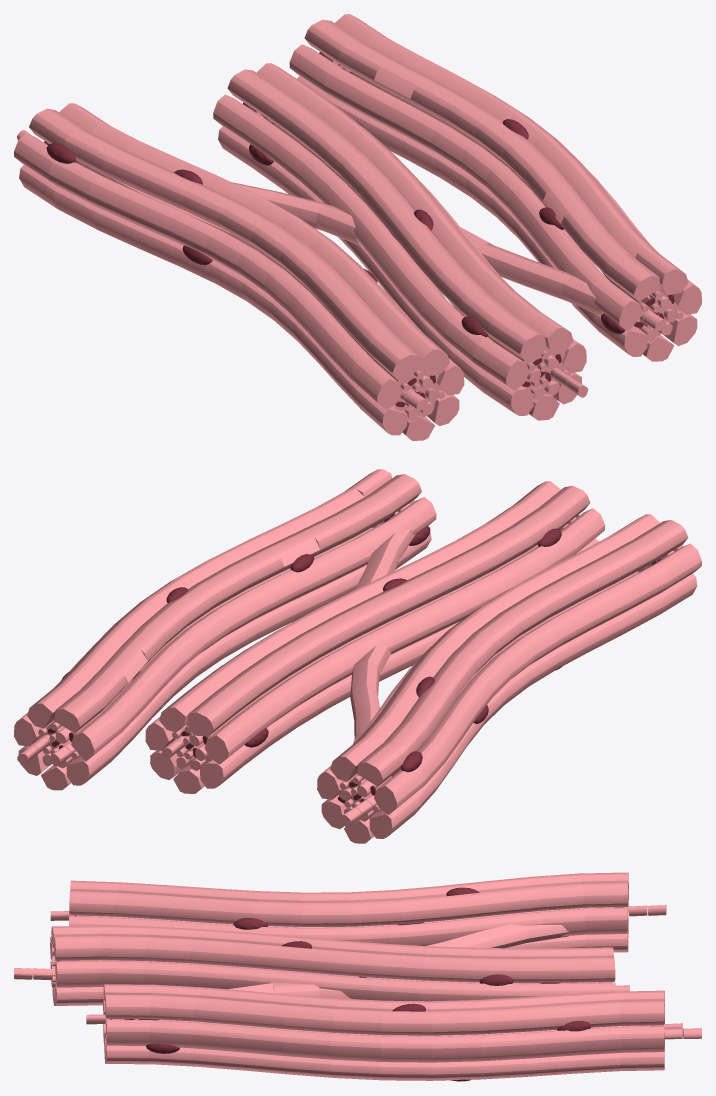
Rendered from Cardiac Muscle Cell Anatomy.fbx.
The picture shows the model from 3 angles, top to bottom: view 1: azimuth 30°, elevation 25°; view 2: azimuth 150°, elevation 25°; view 3: azimuth 270°, elevation 25°; orthographic projection. The views are drawn at different scales.
Visible parts, largest first — view 1: Main.008, Main.009, Main.007, Main.011, Main.010, Circle; view 2: Main.009, Main.008, Main.007, Main.010, Main.011; view 3: Main.009, Main.007, Main.008, Main.010, Main.011, Main.032, Main.027, Main.012.
Part boxes in pixels (x1,y1,x2,y2): Main.008: [14, 103, 464, 440]; Main.009: [289, 14, 701, 361]; Main.007: [213, 63, 586, 420]; Main.011: [460, 227, 603, 315]; Main.010: [232, 182, 363, 246]; Circle: [260, 64, 679, 420]; Main.009: [14, 469, 436, 790]; Main.008: [317, 514, 701, 843]; Main.007: [145, 481, 605, 793]; Main.010: [350, 645, 391, 743]; Main.011: [355, 528, 415, 589]; Main.009: [103, 984, 664, 1080]; Main.007: [50, 925, 615, 1005]; Main.008: [69, 872, 628, 952]; Main.010: [358, 924, 570, 977]; Main.011: [138, 982, 353, 1020]; Main.032: [14, 968, 55, 980]; Main.027: [609, 905, 666, 916]; Main.012: [664, 1028, 701, 1039].
Bounding box in the file's own units: 34.03 × 7.39 × 60.87.
